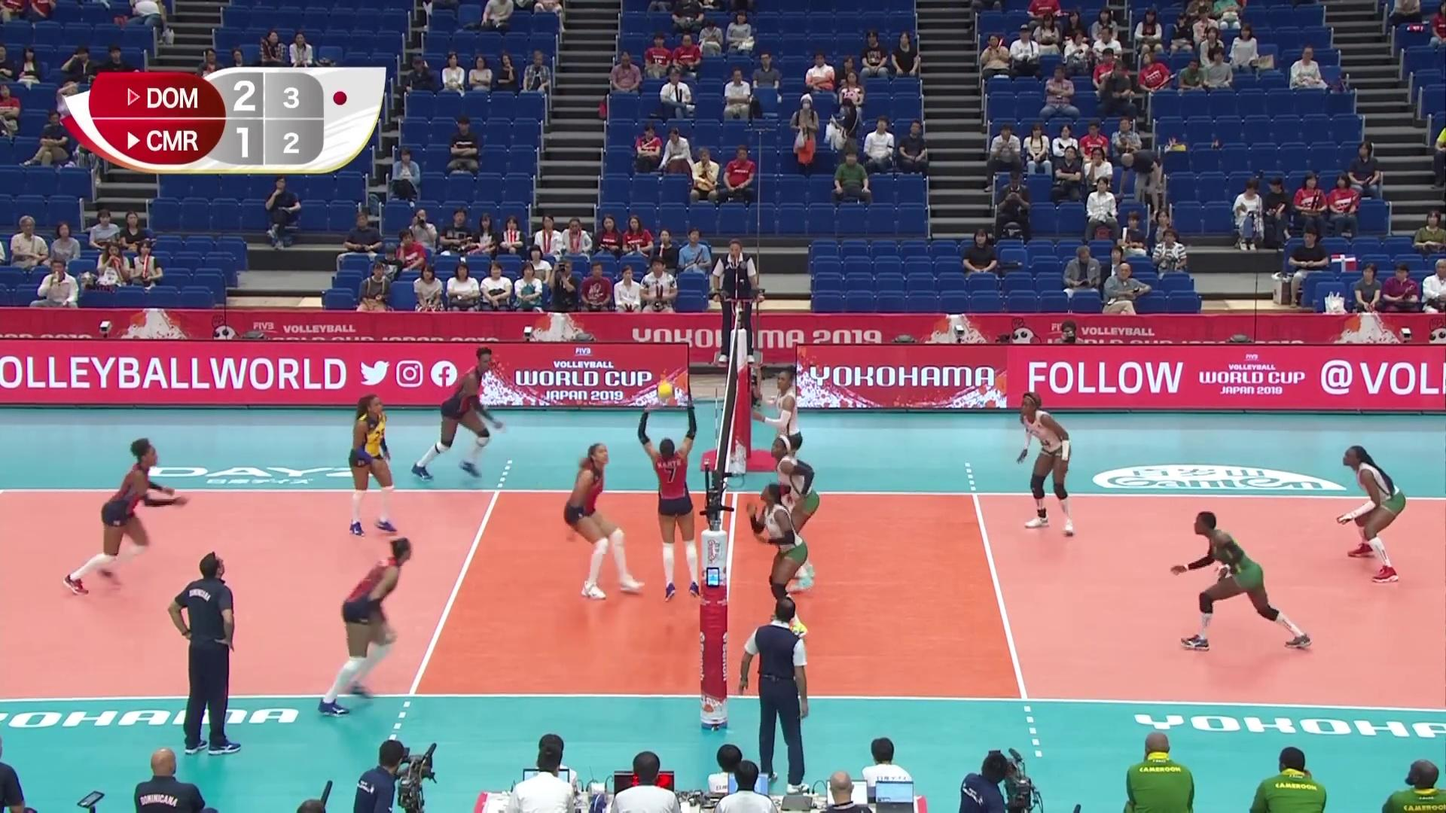player: (1169, 516, 1316, 654), (67, 438, 186, 594), (324, 532, 415, 716), (640, 403, 705, 598), (563, 444, 640, 600), (420, 351, 511, 481), (1332, 445, 1402, 579), (1014, 394, 1080, 535), (764, 432, 819, 594), (752, 484, 810, 637), (341, 396, 396, 534), (763, 368, 807, 525)
refree: (740, 605, 811, 771), (717, 240, 757, 364)
